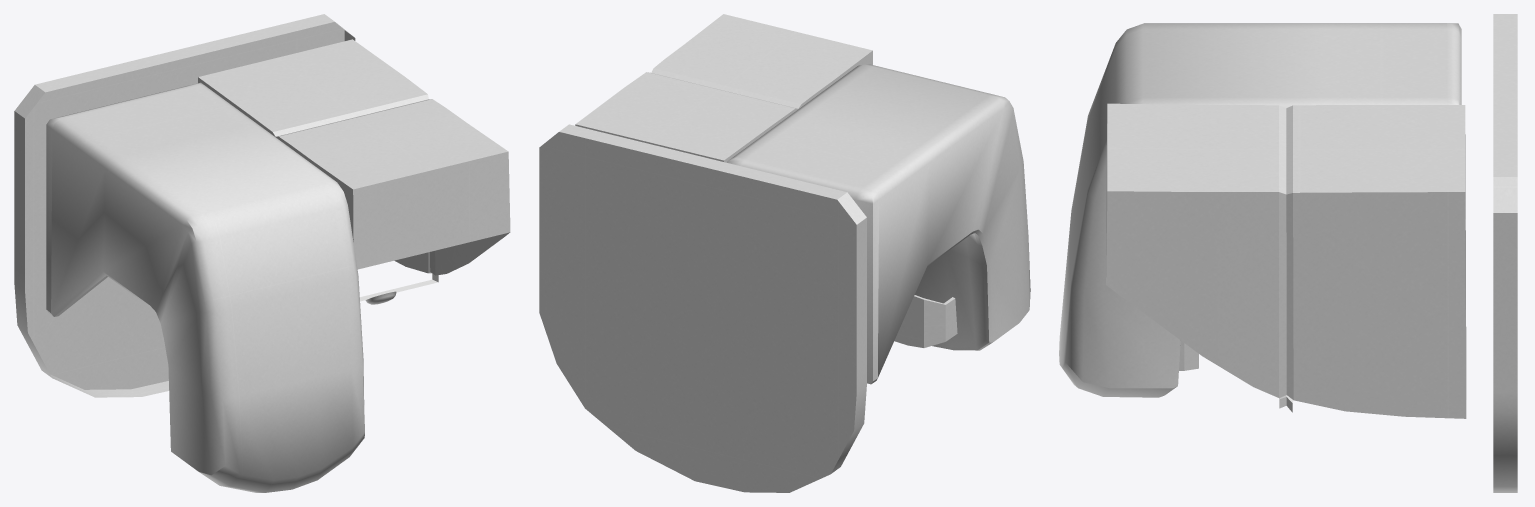
File: CoffeeMachine_28_CoffeeMachine_28_0_GeomSubset_0.obj
3 renders of one model, left to right at view 1: azimuth 30°, elevation 25°; view 2: azimuth 150°, elevation 25°; view 3: azimuth 270°, elevation 25°, orthographic. The views are drawn at different scales.
Parts seen in each view (by area): view 1: CoffeeMachine_28_CoffeeMachine_28_0_GeomSubset_0; view 2: CoffeeMachine_28_CoffeeMachine_28_0_GeomSubset_0; view 3: CoffeeMachine_28_CoffeeMachine_28_0_GeomSubset_0.
Part boxes in pixels (x1,y1,x2,y2): CoffeeMachine_28_CoffeeMachine_28_0_GeomSubset_0: [14, 14, 510, 492]; CoffeeMachine_28_CoffeeMachine_28_0_GeomSubset_0: [539, 14, 1030, 492]; CoffeeMachine_28_CoffeeMachine_28_0_GeomSubset_0: [1059, 14, 1517, 492].
Size of the model in its own units: 0.4284 by 0.408 by 0.4496.
